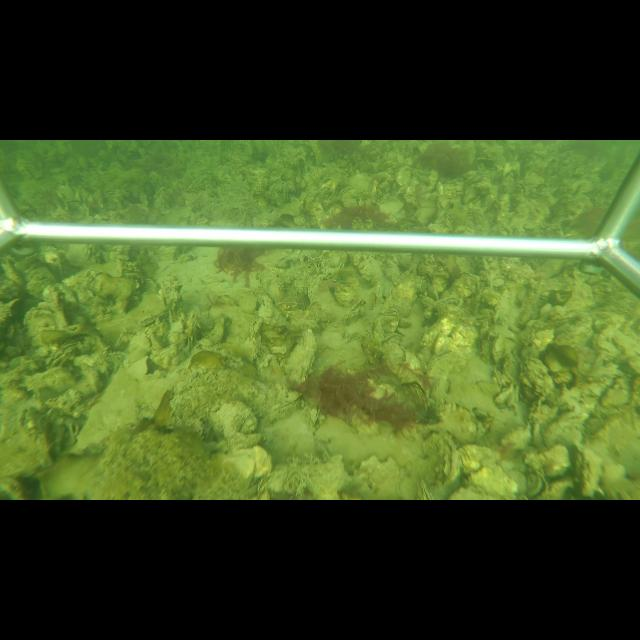Oyster-Closed: (458, 442, 518, 500), (285, 327, 319, 387), (22, 305, 58, 349), (440, 270, 482, 302), (371, 306, 401, 346), (437, 433, 459, 485), (380, 332, 406, 374), (426, 282, 438, 300)
Oyster-Open: (44, 339, 84, 368), (403, 379, 429, 413), (522, 470, 550, 498)
